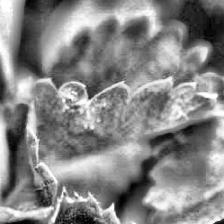Powdery Mildew Leaf: (28, 76, 224, 168)
